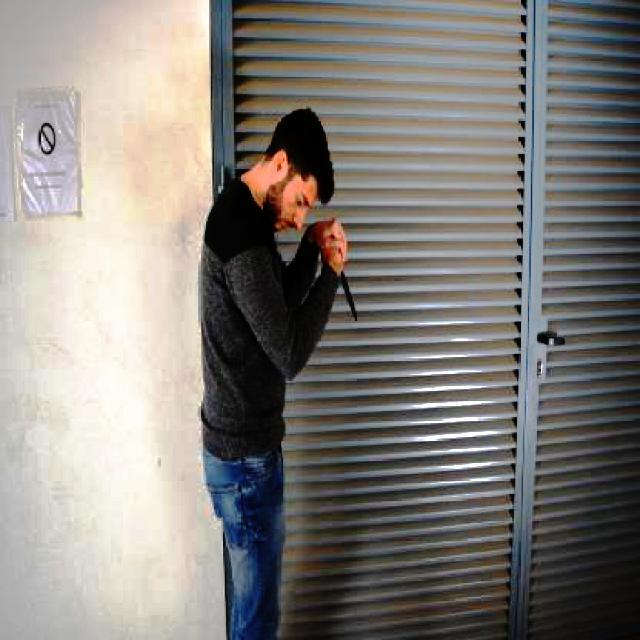Knife: (334, 266, 364, 323)
